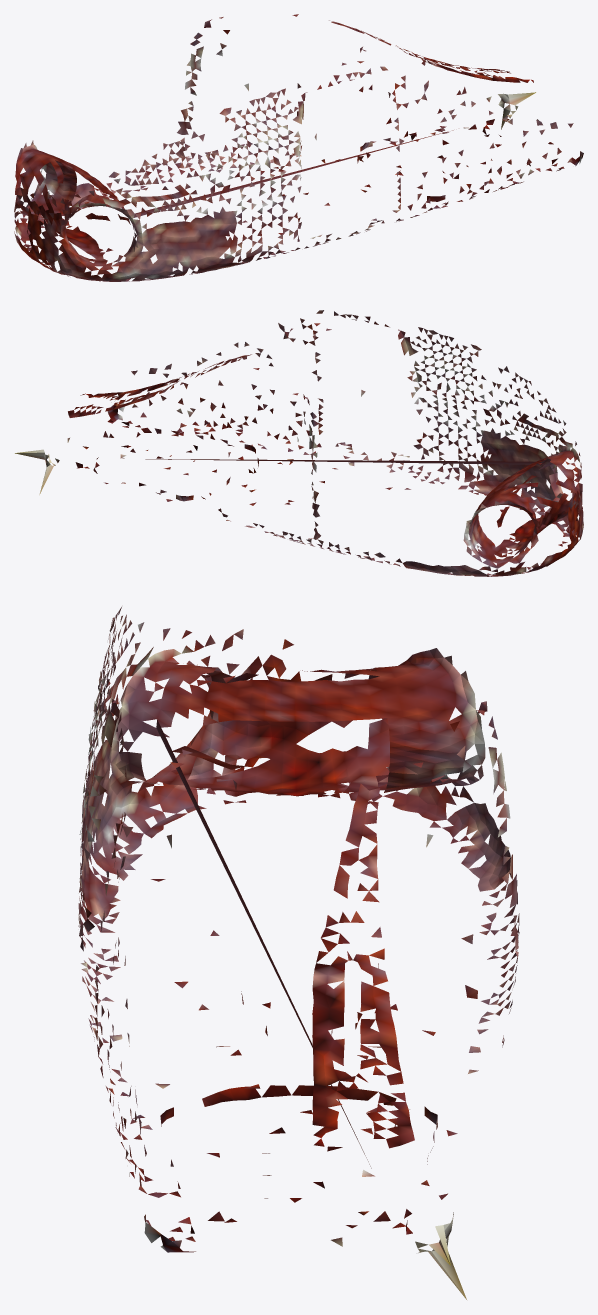
The model's file is whistle_final500.obj.
The picture shows the model from 3 angles, top to bottom: view 1: azimuth 30°, elevation 25°; view 2: azimuth 150°, elevation 25°; view 3: azimuth 270°, elevation 25°; orthographic projection. The views are drawn at different scales.
Size of the model in its own units: 2.01 by 0.6481 by 0.7405.
